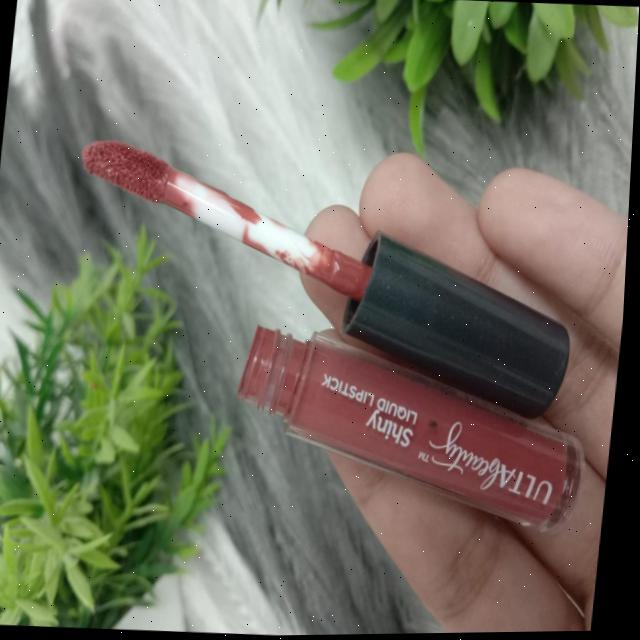lip gloss: (207, 311, 604, 553), (46, 123, 317, 284)
